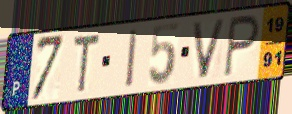5: (147, 21, 183, 88)
7: (29, 33, 66, 105)
I: (124, 27, 139, 91)
P: (221, 13, 262, 80)
T: (70, 32, 101, 96)
V: (190, 17, 228, 81)
